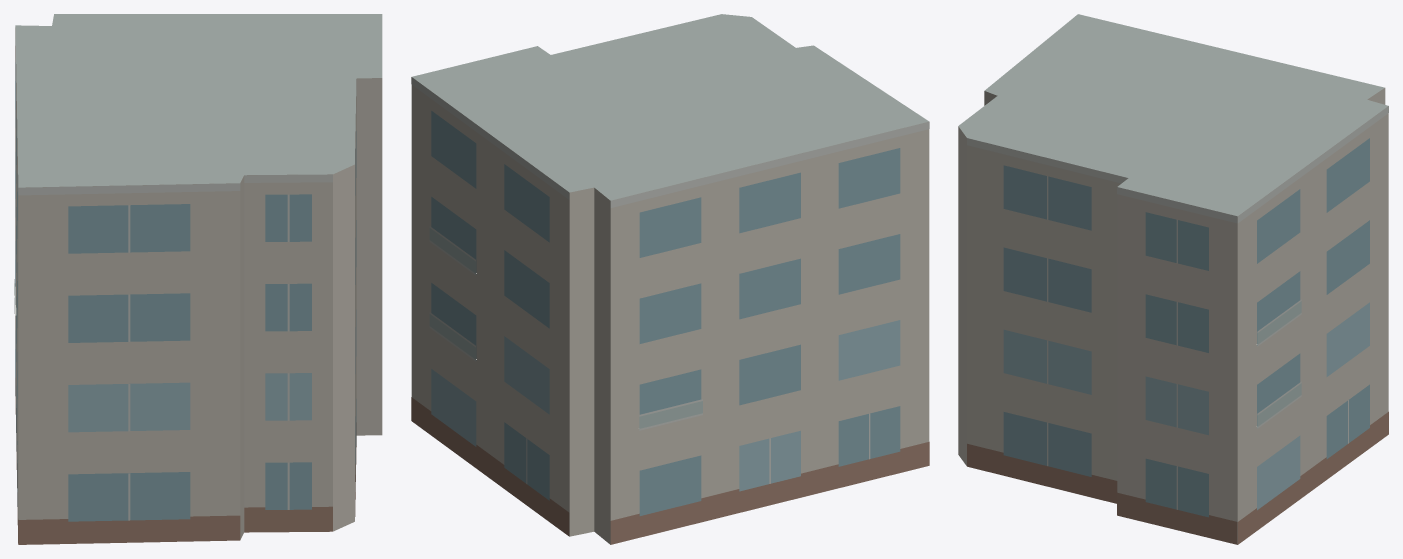
Rendered from survey-upis-32780238.glb.
3 views of the same model, side by side, from view 1: azimuth 30°, elevation 25°; view 2: azimuth 150°, elevation 25°; view 3: azimuth 270°, elevation 25° (orthographic). The views are drawn at different scales.
Parts seen in each view (by area): view 1: survey-upis-32780238.tmp; view 2: survey-upis-32780238.tmp; view 3: survey-upis-32780238.tmp.
Boxes of the visible parts, box(x1,y1,x2,y2) form: survey-upis-32780238.tmp: box(14, 14, 382, 544); survey-upis-32780238.tmp: box(411, 14, 929, 544); survey-upis-32780238.tmp: box(958, 14, 1388, 544).
Bounding box in the file's own units: 14.73 × 11.15 × 13.25.
